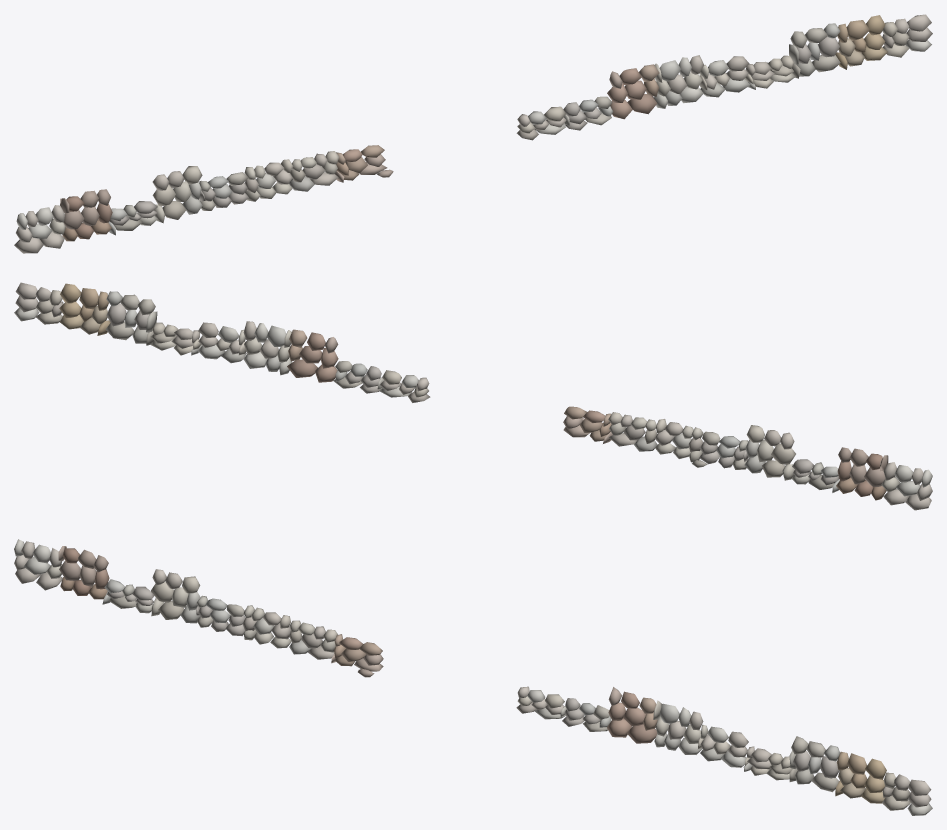
The model's file is farm_-4_1_near.glb.
3 views of the same model, one above another, from view 1: azimuth 30°, elevation 25°; view 2: azimuth 150°, elevation 25°; view 3: azimuth 330°, elevation 25° (orthographic).
Visible parts, largest first — view 1: geometry_0; view 2: geometry_0; view 3: geometry_0.
Boxes of the visible parts, x1,y1,x2,y2 form: geometry_0: (14, 14, 932, 253); geometry_0: (14, 282, 932, 510); geometry_0: (14, 539, 932, 815).
Bounding box in the file's own units: 30.61 × 2.13 × 1.31.
